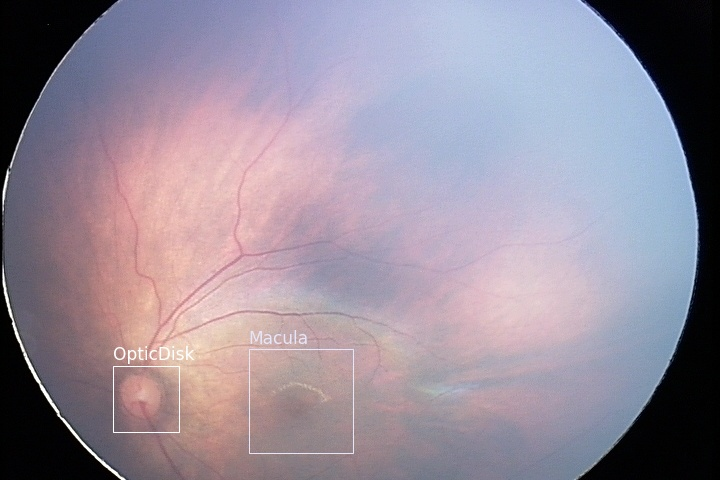Macula: (248, 348, 352, 452)
OpticDisk: (112, 365, 178, 431)
